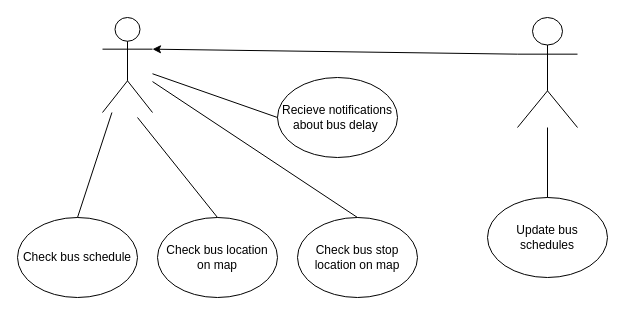
Some shapes in this 625 by 315 pixel diagram are drawn without their labels. The box of each missing label's shape, as (x1, y1, x2, y2) in pixels:
Admin: (516, 16, 578, 128)
User: (102, 16, 152, 112)
